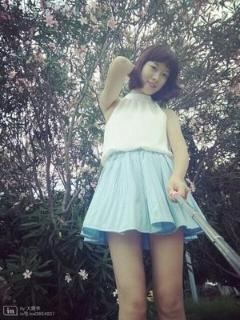skirt: (81, 147, 207, 250)
vest dress: (100, 94, 174, 166)
